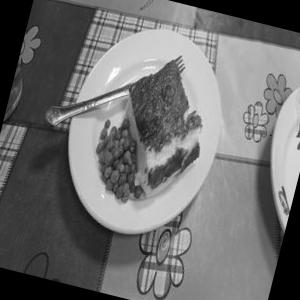casserole: (81, 43, 226, 228)
